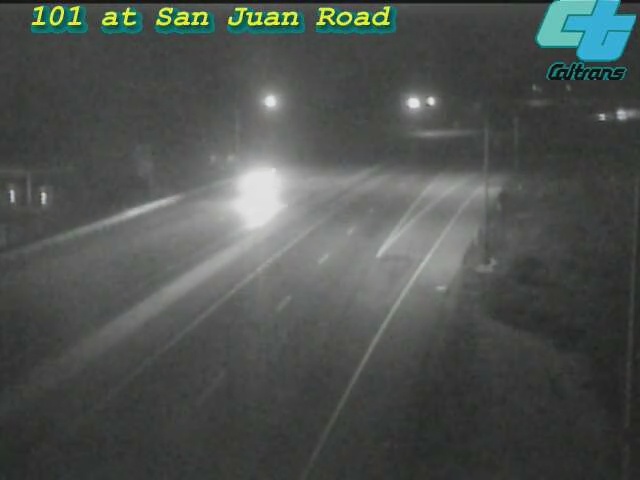vehicle: (215, 154, 295, 234), (601, 89, 640, 139)
